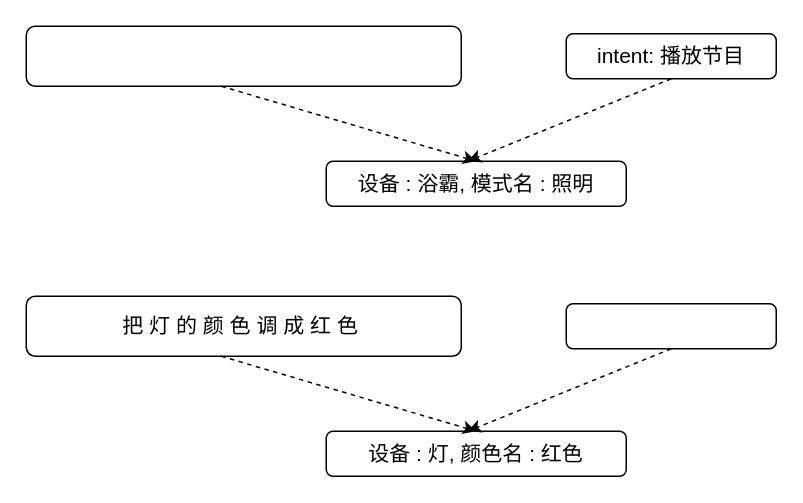
The diagram is 803 pixels wide and 503 high, and some of its shapes have lost their labels. The shapes that lost their labels are listed below. From the top down, each one's centre as x and y in pixels, then its label:
At point (243, 55): "我 想 要 看 红 色 电 视 剧".
At point (670, 325): "intent: 颜色调节".
